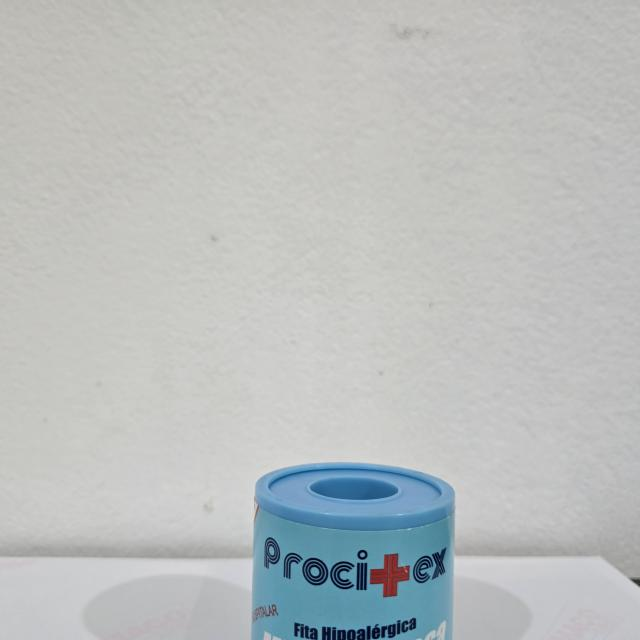procitex: (248, 458, 457, 640)
